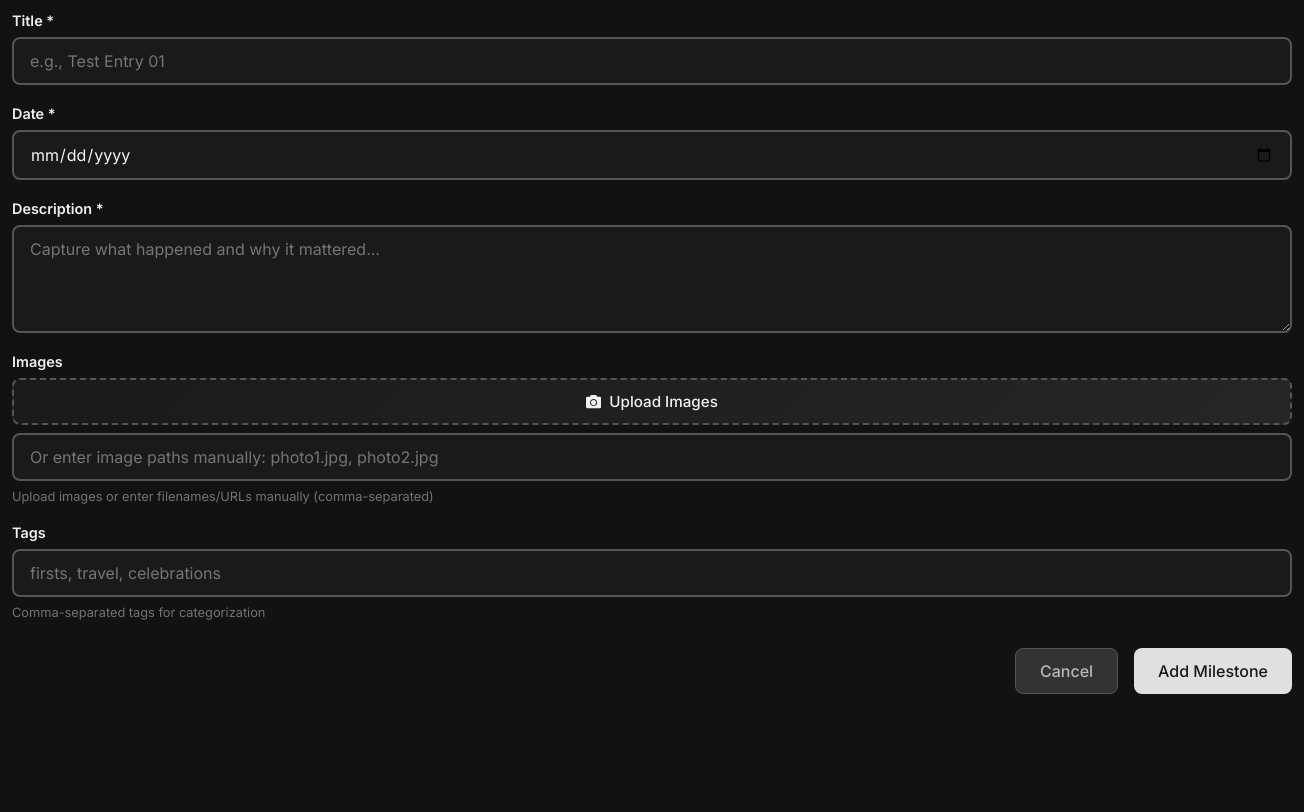
MilestoneForm › should show validation errors for empty required fields
Click the button "Add Milestone".
click(1213, 671)  # box [1134,648,1292,694]
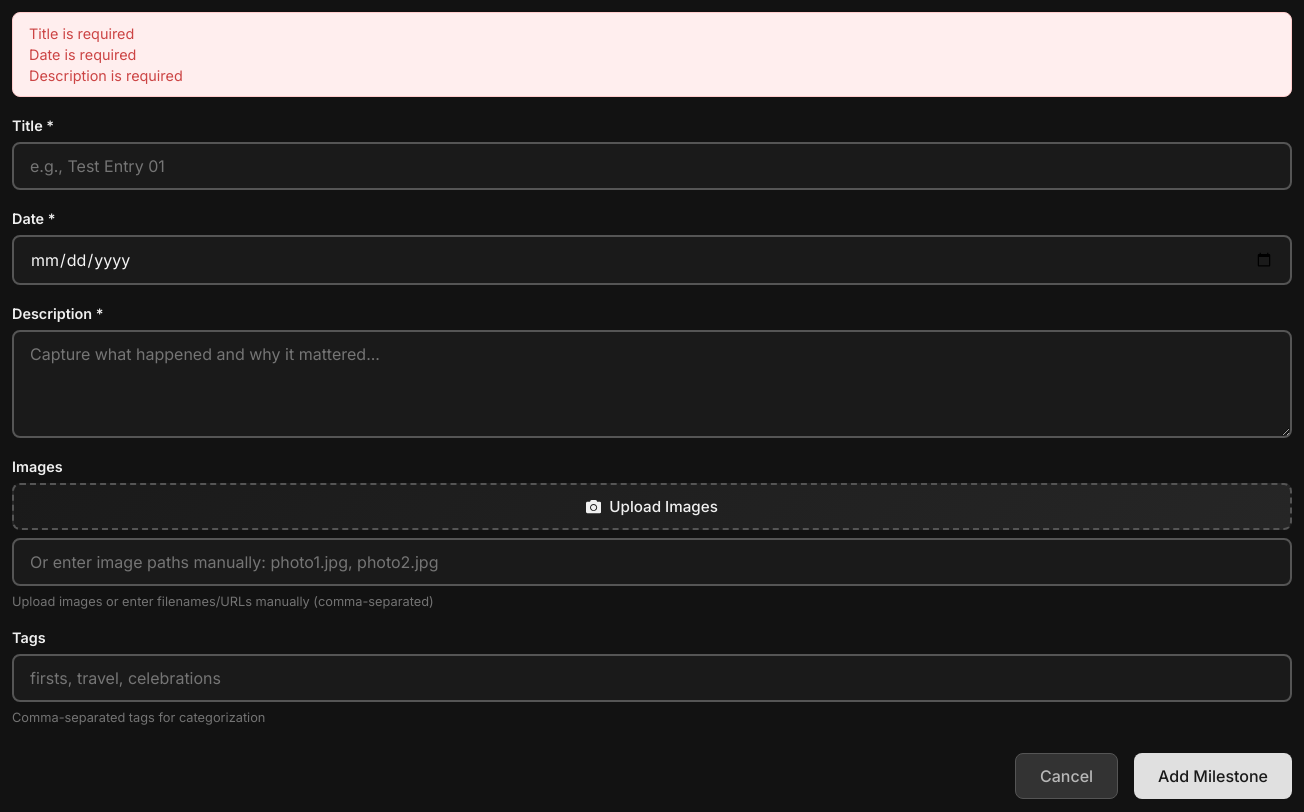
Result: the text "Title is required" is shown at [29,25,134,42]
Result: the text "Date is required" is shown at [29,46,136,63]
Result: the text "Description is required" is shown at [29,67,183,84]
